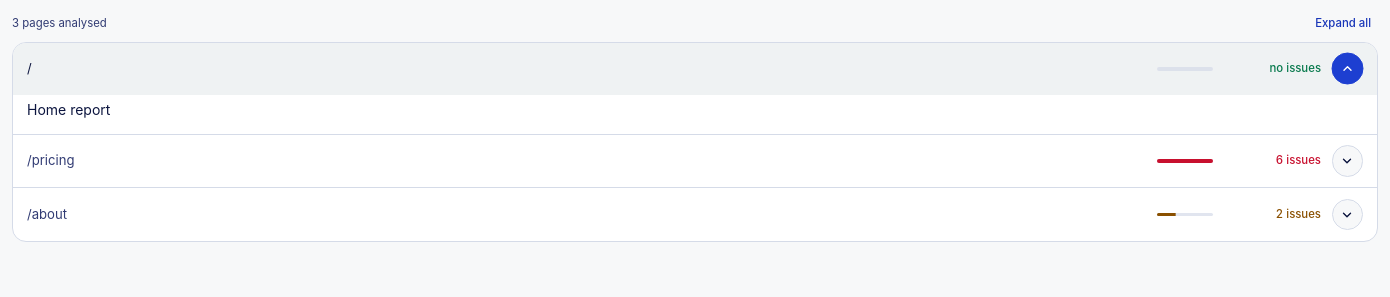
PageSections with reduced motion › still opens a page
Step 1. Click the button "/about 2 issues" → (47, 214), box [13, 188, 1377, 241]
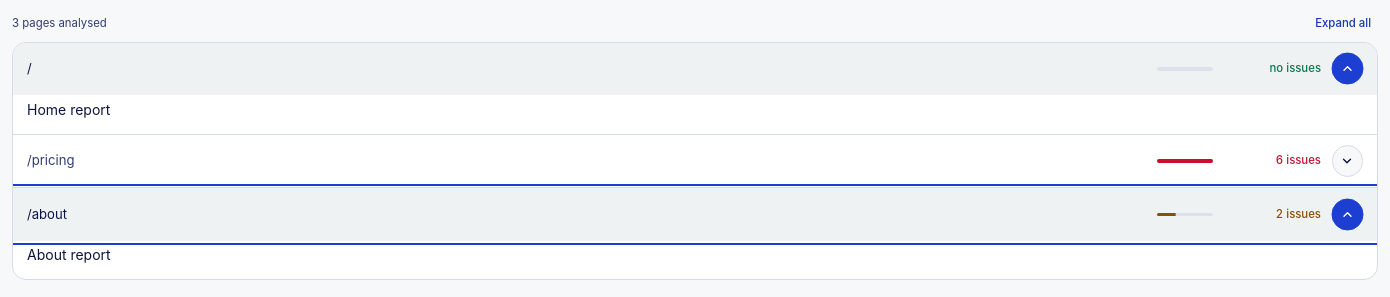
Check: the text "About report" is shown, box [27, 246, 111, 263]
